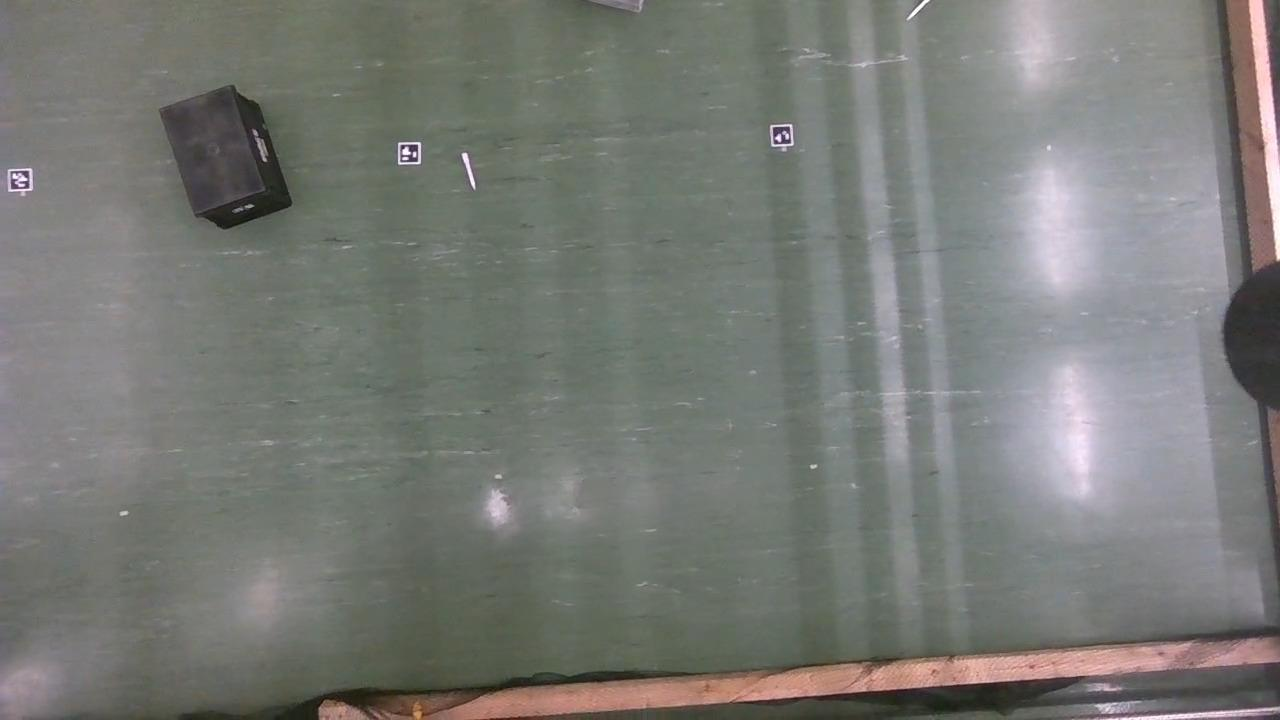probes: (463, 153, 476, 192), (910, 0, 927, 19)
rako: (160, 87, 292, 232)
